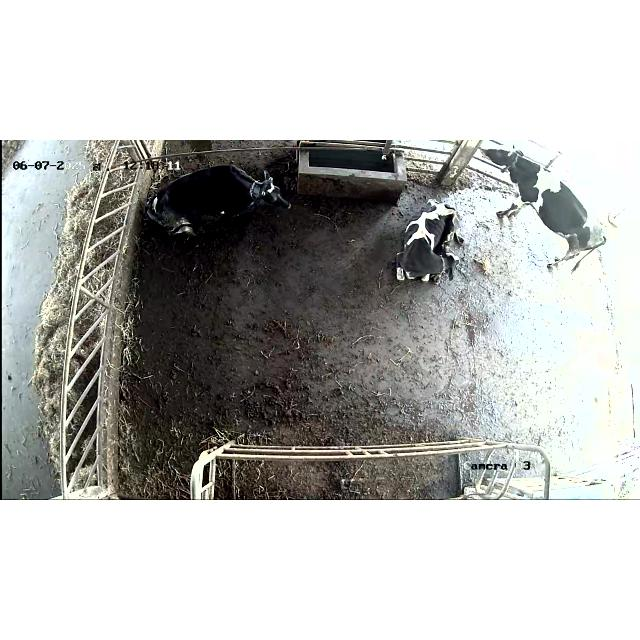stand: (474, 144, 610, 278)
